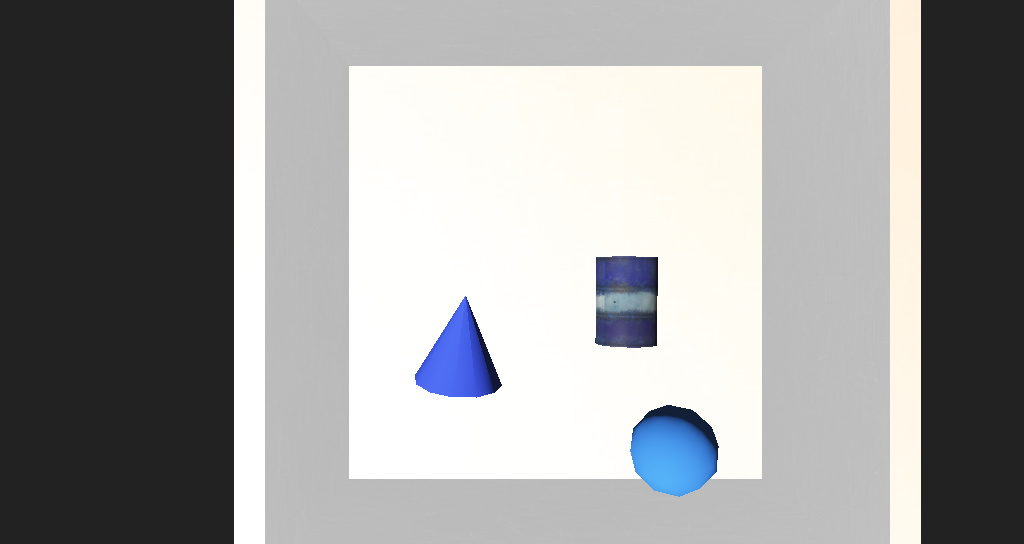cone: (536, 258, 583, 305)
cylinder: (401, 274, 475, 336)
sphere: (563, 334, 623, 382)
